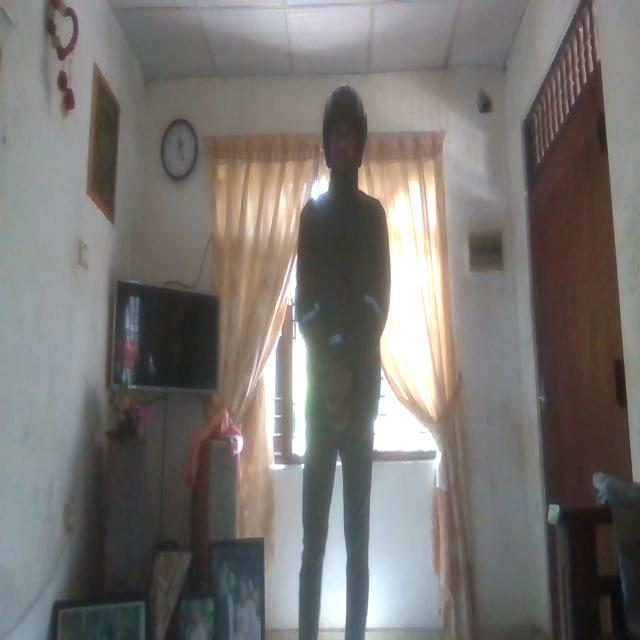Helmet_Wearer: (314, 78, 376, 188)
Jacket_Wearer: (283, 190, 403, 450)
Person: (284, 75, 395, 640)
